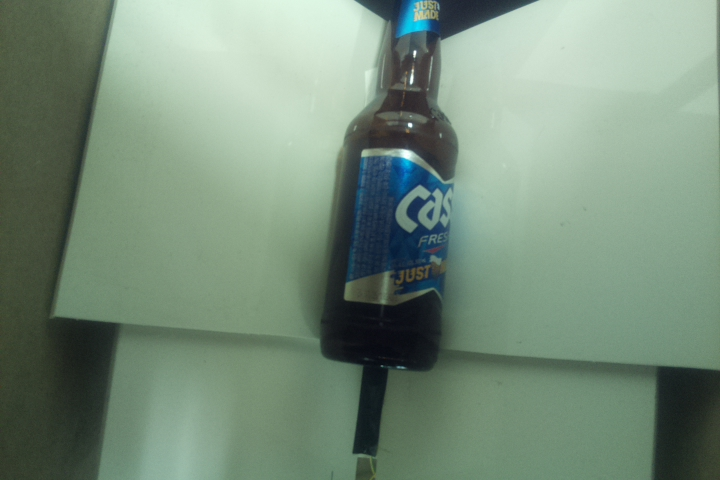makju: (316, 1, 463, 374)
